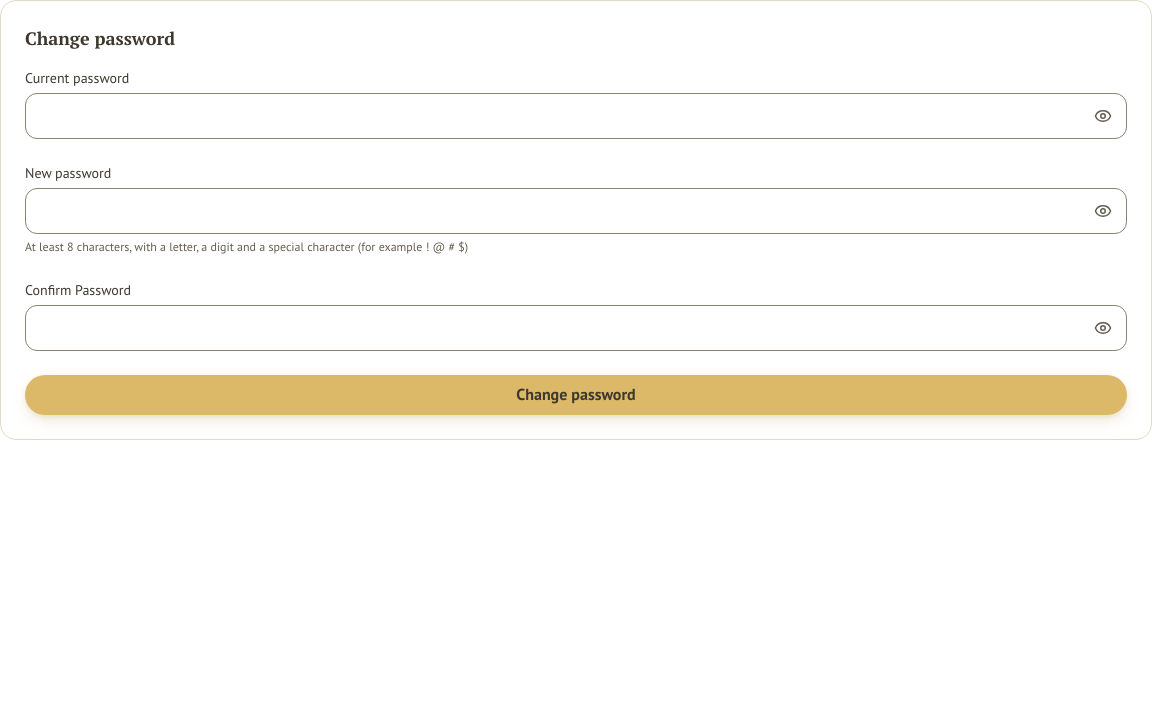
Test: ChangePasswordForm › sends the passwords, confirms, and empties the fields
Type "Old-Password#2026" into the password field labelled "Current password".
click(576, 116); type("Old-Password#2026")  # box [25, 93, 1127, 139]
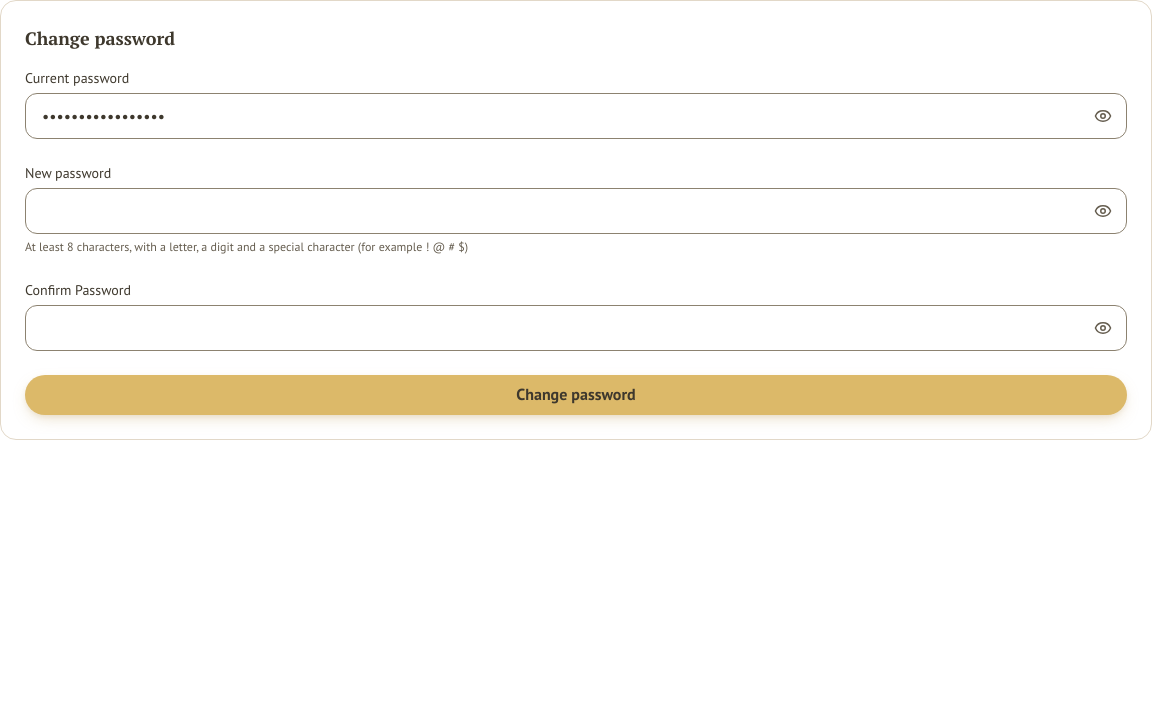
Type "Fresh9Grape#Tower42" into the password field labelled "New password".
click(576, 211); type("Fresh9Grape#Tower42")  # box [25, 188, 1127, 234]
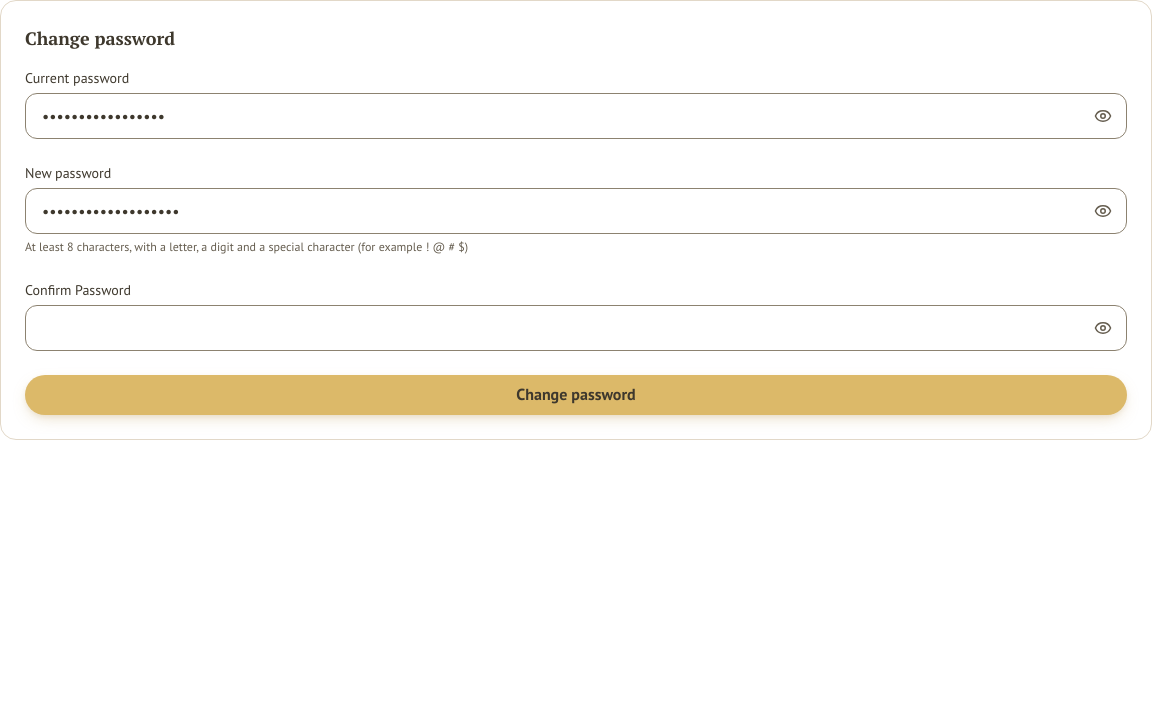
Type "Fresh9Grape#Tower42" into the password field labelled "Confirm Password".
click(576, 328); type("Fresh9Grape#Tower42")  # box [25, 305, 1127, 351]
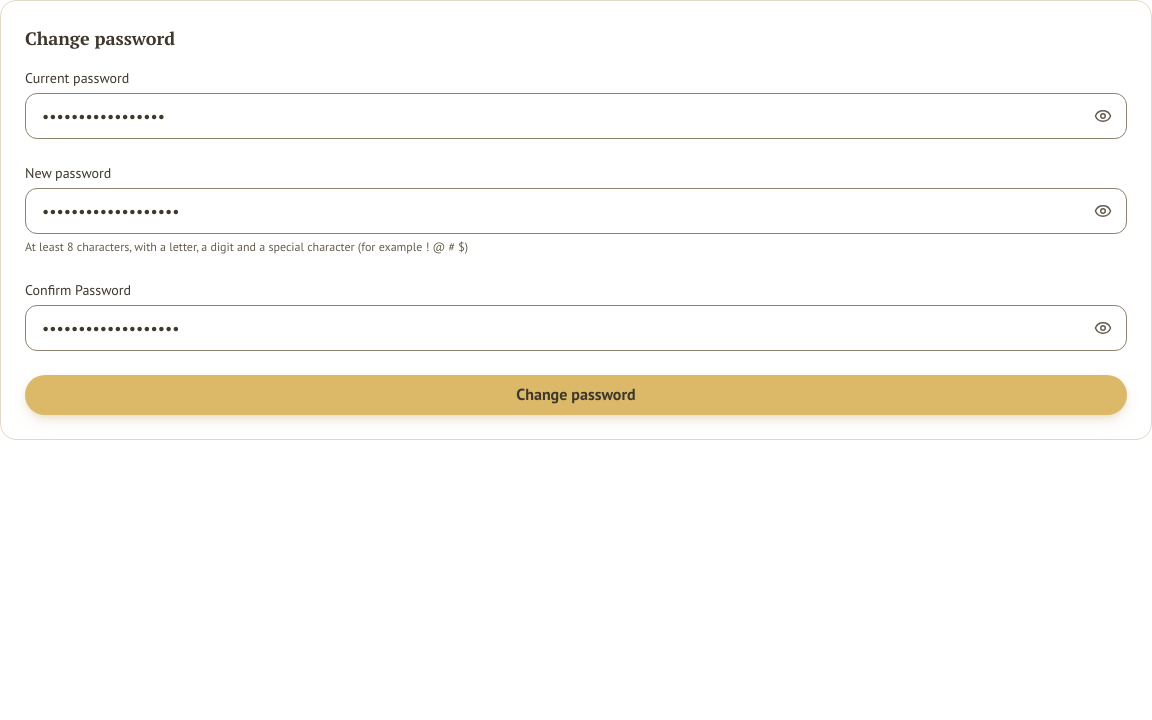
Click the button "Change password".
click(576, 395)  # box [25, 375, 1127, 415]
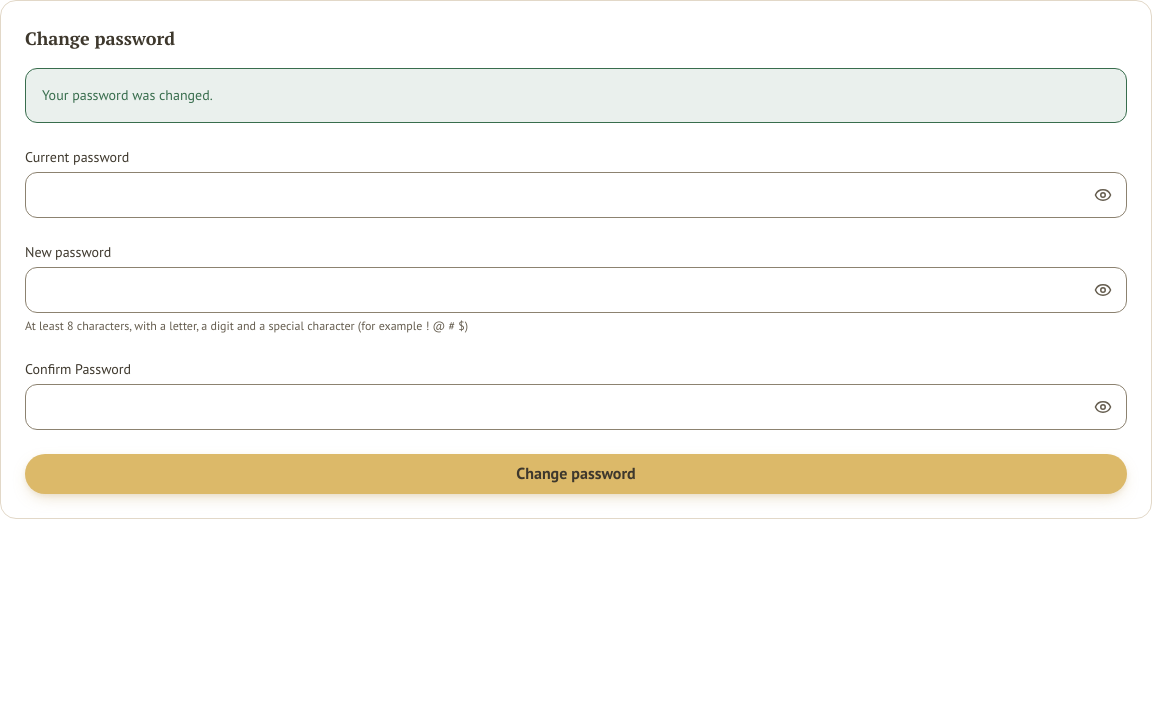
Now the message reads "Your password was changed.", box [42, 86, 213, 104]
Now the password field labelled "Current password" is empty, box [25, 172, 1127, 218]
Now the password field labelled "New password" is empty, box [25, 267, 1127, 313]
